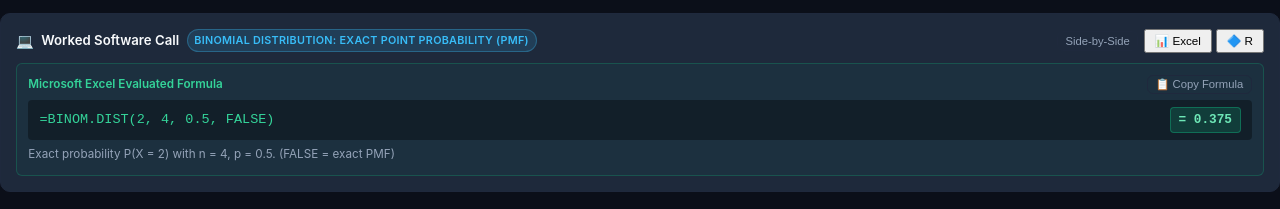
WorkedSoftwareCallBox › toggles side-by-side mode displaying both Excel and R cards simultaneously
Click the button "Side-by-Side" at (1098, 41), box [1057,31,1138,51]
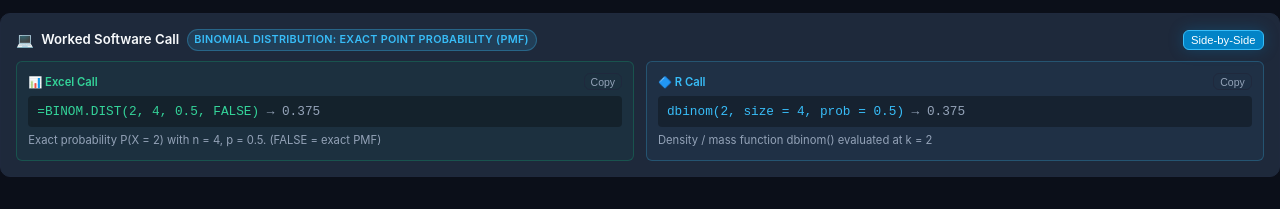
Expected: the text "📊 Excel Call" is shown, [28,74,98,90]
Expected: the text "🔷 R Call" is shown, [658,74,706,90]
Expected: the text "=BINOM.DIST(2, 4, 0.5, FALSE)→ 0.375" is shown, [28,96,622,127]
